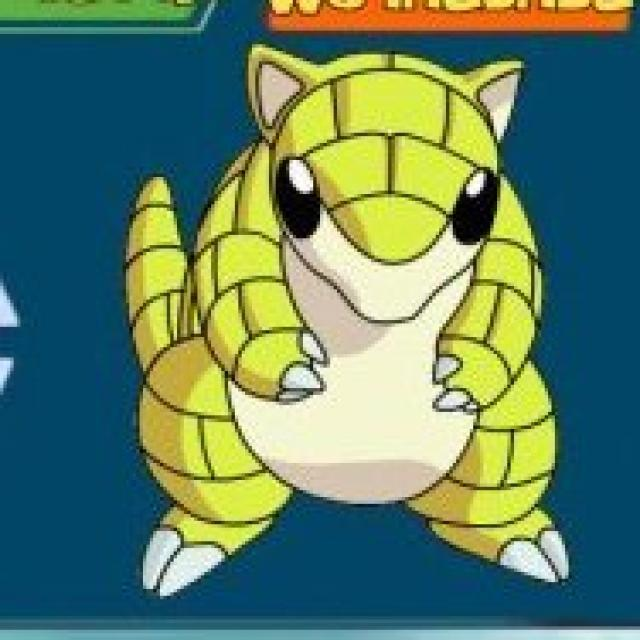Sandshrew: (123, 45, 566, 594)
